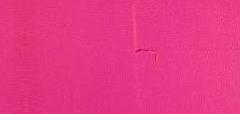snag: (132, 44, 163, 70)
